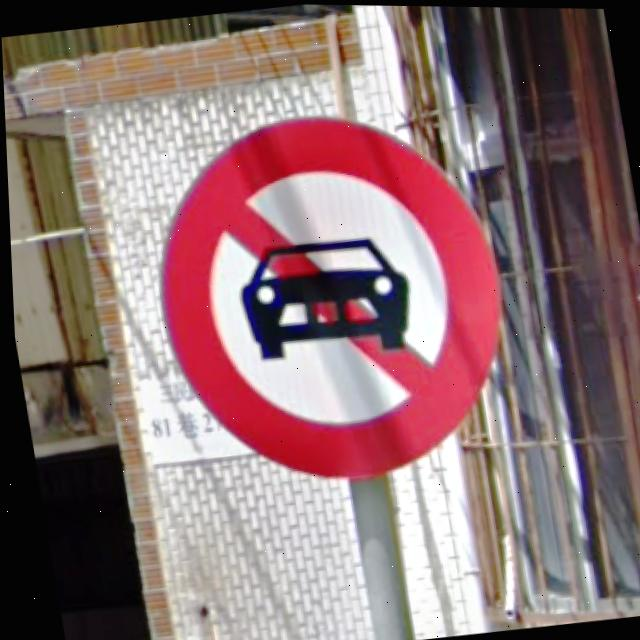nocar: (155, 116, 499, 479)
